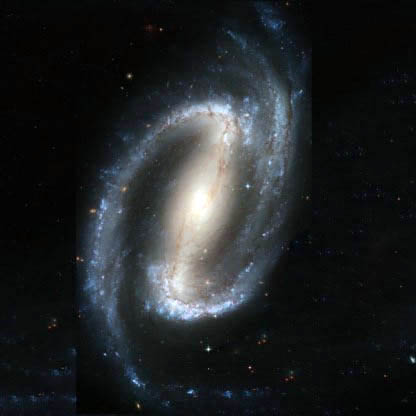NGC 1300: (88, 14, 301, 401)
